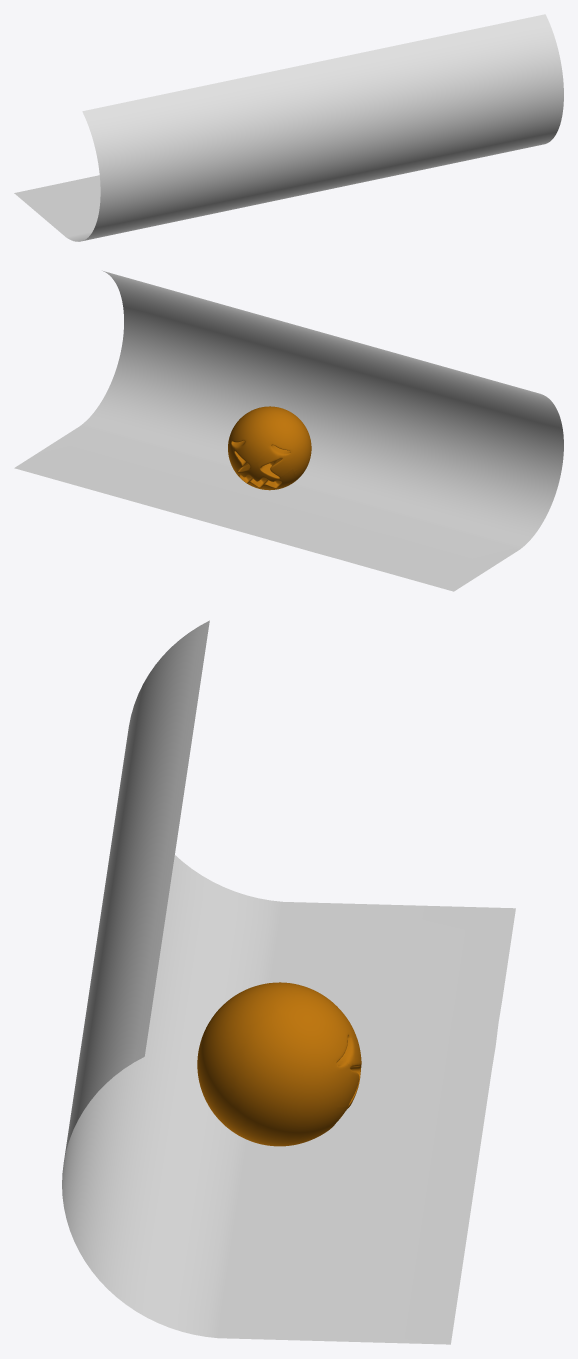
File: confounded 3DS.fbx
3 views of the same model, one above another, from view 1: azimuth 30°, elevation 25°; view 2: azimuth 150°, elevation 25°; view 3: azimuth 270°, elevation 25° (orthographic). The views are drawn at different scales.
Parts seen in each view (by area): view 1: Plane001; view 2: Plane001, Group59187; view 3: Plane001, Group59187.
Boxes of the visible parts, x1,y1,x2,y2 form: Plane001: (14,14,563,241); Plane001: (14,270,563,591); Group59187: (228,406,311,490); Plane001: (62,620,515,1344); Group59187: (197,982,361,1146).
Bounding box in the file's own units: 338 × 98.57 × 145.
